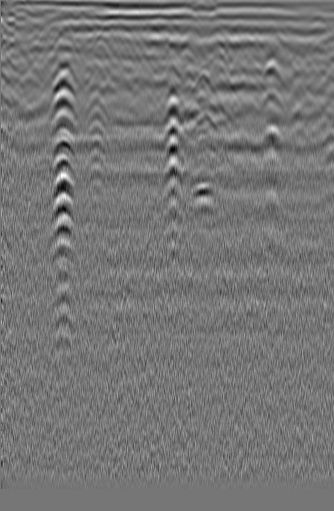가스: (189, 180, 219, 211)
상수: (282, 42, 318, 70)
오수: (10, 41, 37, 70)
우수: (153, 61, 185, 81)
